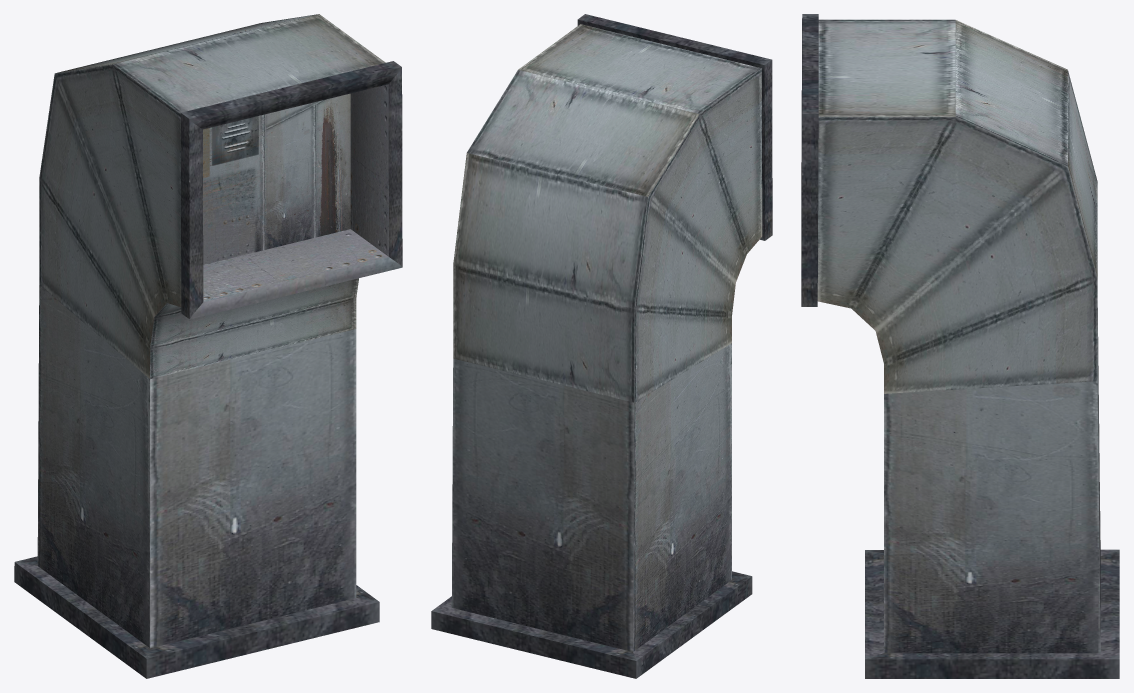
Rendered from Fan1.fbx.
3 views of the same model, side by side, from view 1: azimuth 30°, elevation 25°; view 2: azimuth 150°, elevation 25°; view 3: azimuth 270°, elevation 25° (orthographic). The views are drawn at different scales.
Visible parts, largest first — view 1: Fan1; view 2: Fan1; view 3: Fan1.
Boxes of the visible parts, left/top/right/bottom form: Fan1: left=14, top=14, right=402, bottom=678; Fan1: left=431, top=14, right=772, bottom=678; Fan1: left=801, top=14, right=1119, bottom=678.
Bounding box in the file's own units: 76.26 × 182 × 93.67.
